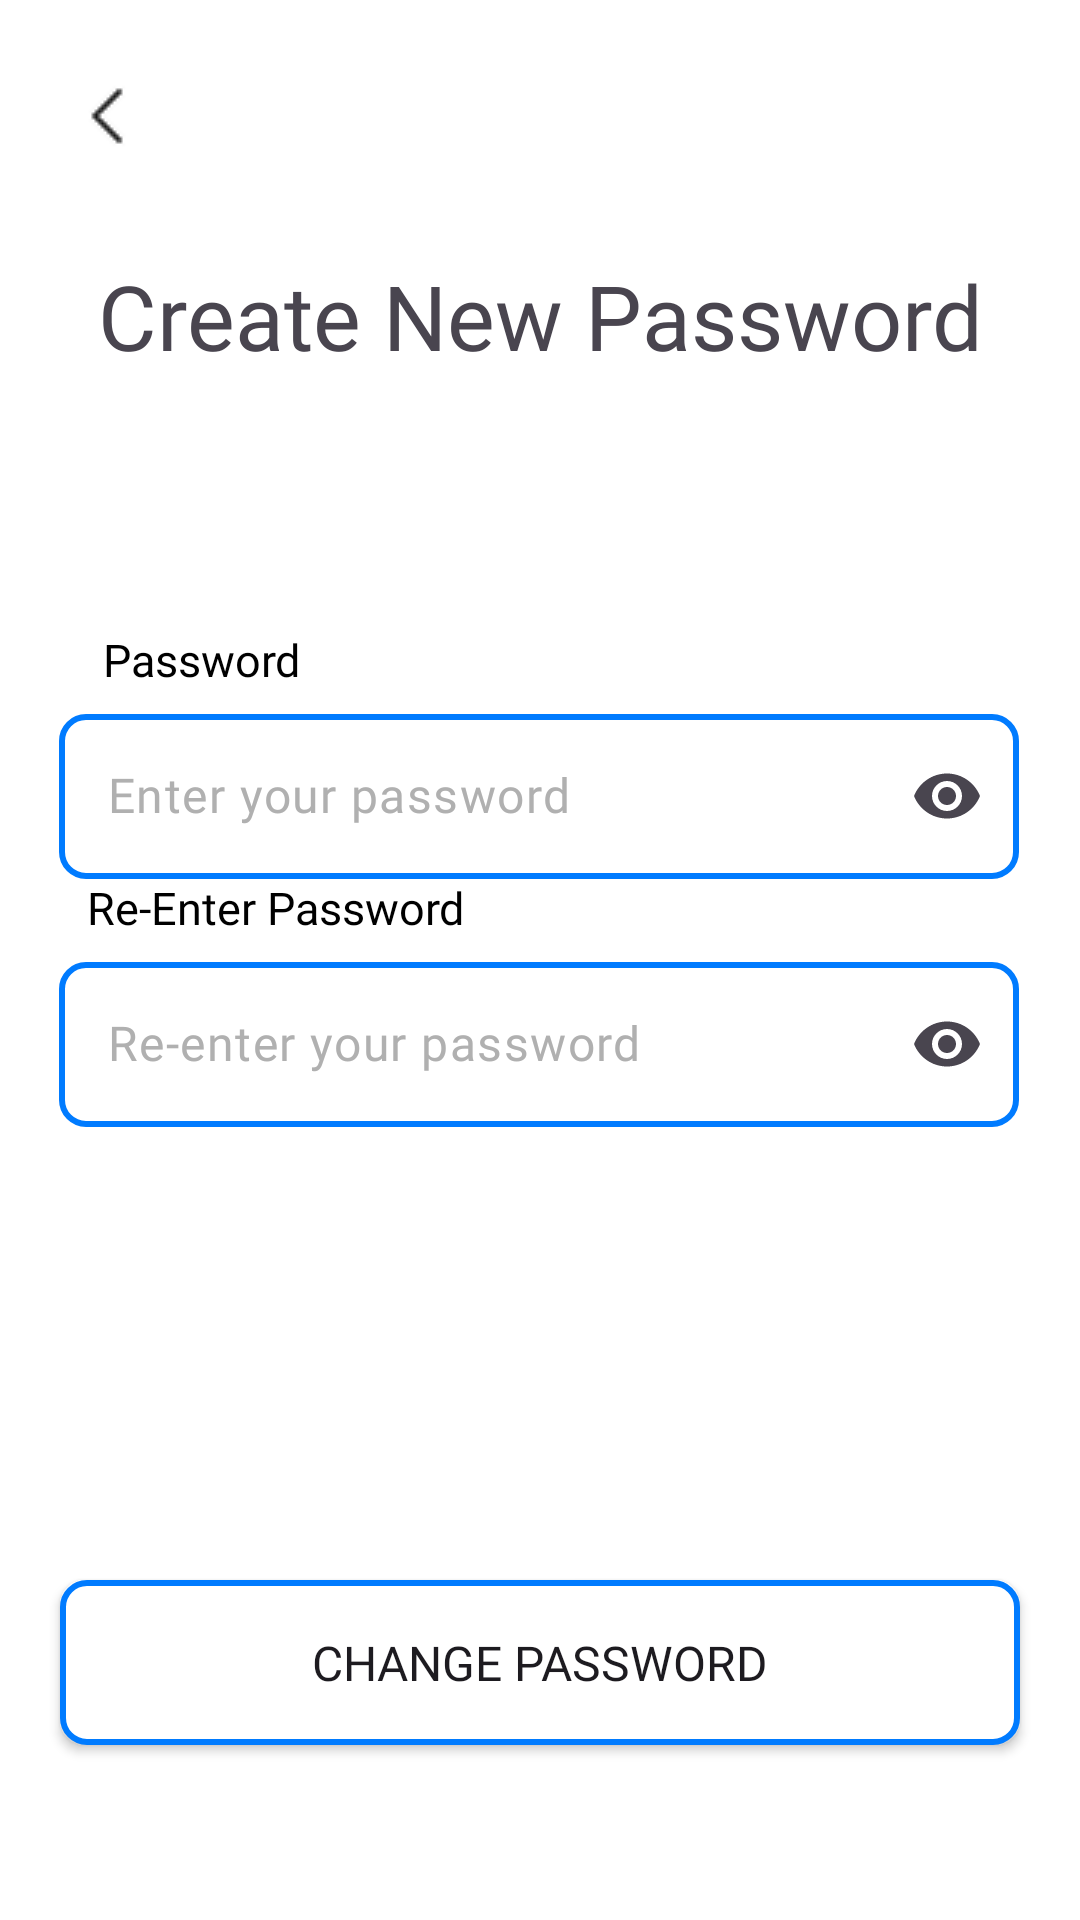

Screen size 1080x1920. Icon name, then its box in pixels as (left=x1, top=y1, right=x2, bottom=y2):
Back: (left=91, top=88, right=123, bottom=144)
